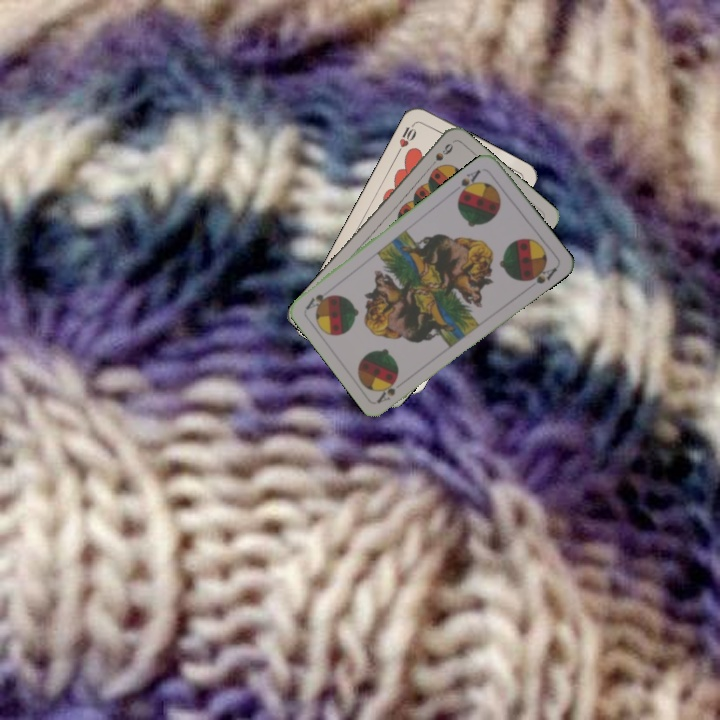H10: (393, 118, 419, 156)
S9: (424, 139, 456, 172)
SA: (455, 165, 483, 199), (374, 376, 400, 405)
